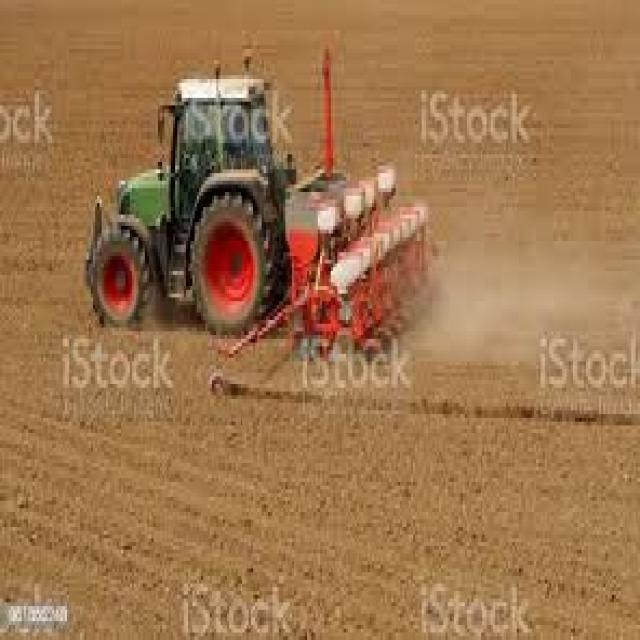tractor: (86, 60, 426, 350)
